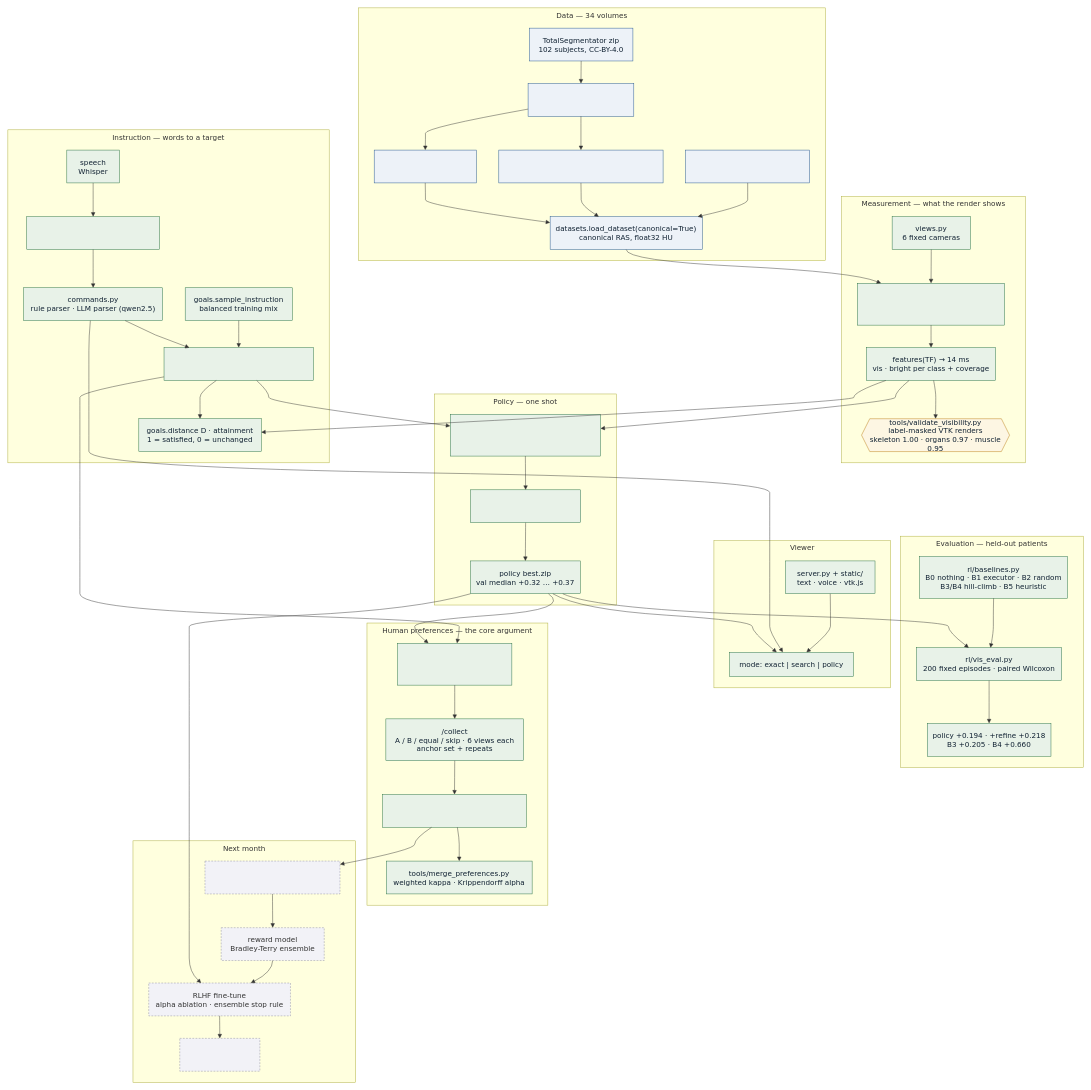
Some shapes in this 1091 by 1090 pixel diagram are drawn without their labels. Here are the shapes that lost their labels. From the top down, the centre of each, then its label:
[581,99]: tools/select_totalseg.py filter · stratify · split
[425,166]: 30 CT volumes 20 train / 4 val / 6 test
[580,166]: labels.nii.gz skeleton · lungs · organs · muscle · vessels
[747,166]: 4 Slicer CTs out-of-source, intensity labels
[93,233]: text 'more bone, a bit less soft tissue'
[931,304]: visibility.py resample per view · label per sample cache: out/cache/visibility
[238,363]: goals.goal_vector 16 values: requested change per class
[525,435]: rl/oneshot_env.py obs 57 · action = the transfer function reward = attainment
[525,506]: rl/oneshot_train.py SAC · 150k steps · 3 seeds
[454,664]: rl/candidates.py policy samples vs baselines near-duplicates filtered
[454,810]: out/vis_preferences.jsonl choice · objective_choice · features
[272,877]: embed.py DINOv2 ViT-S/14 · 6 views · 384-d
[219,1054]: blind A/B policy vs control
